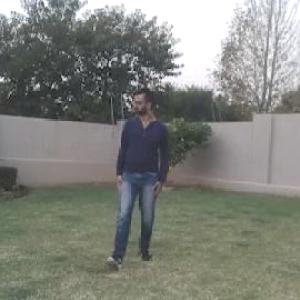follow: (112, 76, 167, 261)
